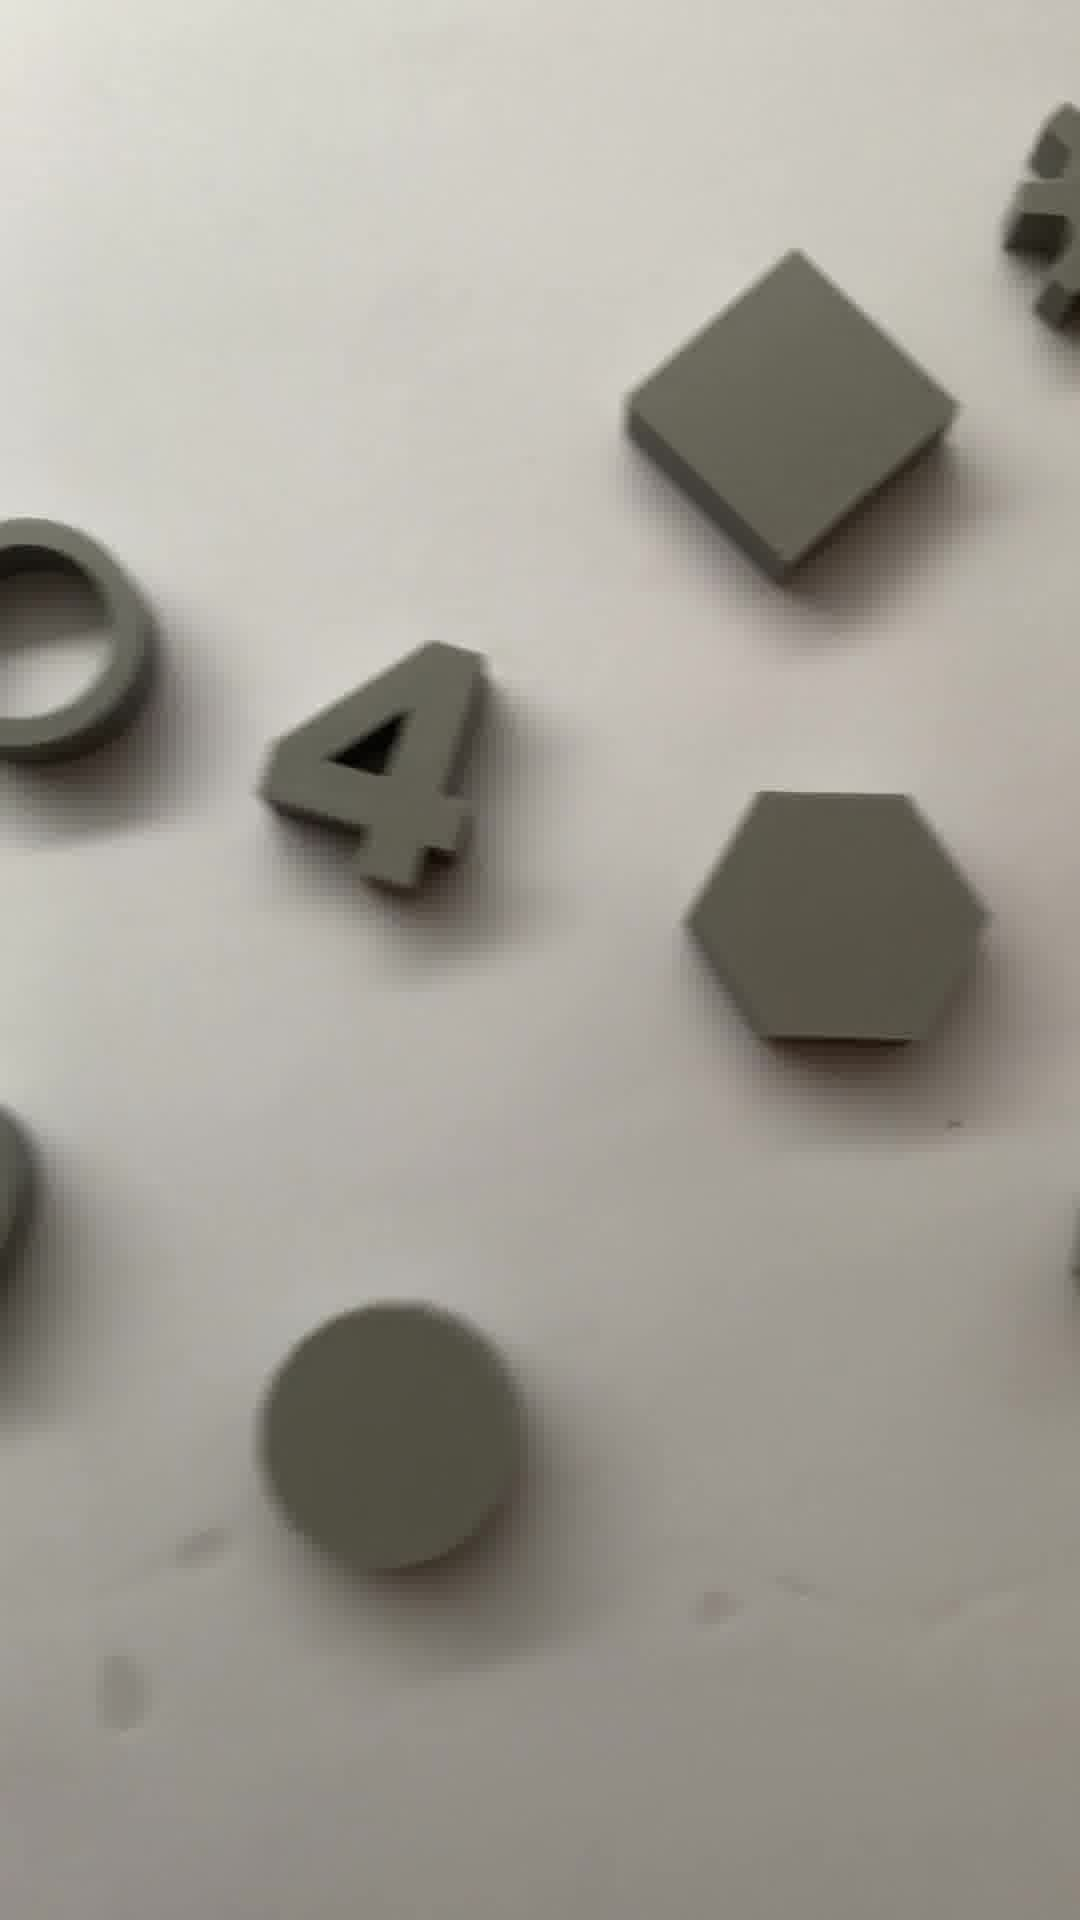Gray circle: (251, 1288, 539, 1581)
Gray four: (251, 638, 506, 906)
Gray gear: (996, 84, 1080, 359)
Gray hexagon: (692, 787, 986, 1063)
Gray ring: (1, 510, 156, 752)
Gray square: (609, 240, 982, 595)
